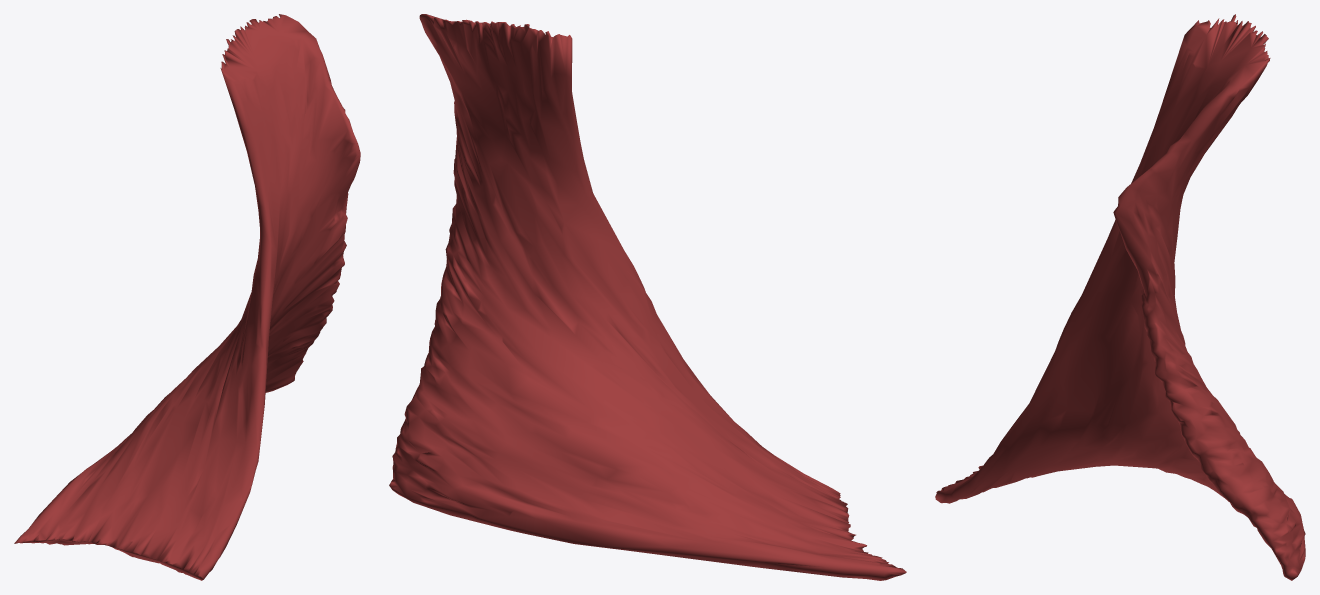
File: ascending-part-of-trapezius-muscle-r.glb
3 views of the same model, side by side, from view 1: azimuth 30°, elevation 25°; view 2: azimuth 150°, elevation 25°; view 3: azimuth 270°, elevation 25° (orthographic). The views are drawn at different scales.
Parts seen in each view (by area): view 1: Ascending part of trapezius muscle.r; view 2: Ascending part of trapezius muscle.r; view 3: Ascending part of trapezius muscle.r.
Boxes of the visible parts, x1,y1,x2,y2 form: Ascending part of trapezius muscle.r: [14, 14, 360, 580]; Ascending part of trapezius muscle.r: [389, 14, 906, 580]; Ascending part of trapezius muscle.r: [935, 14, 1305, 580].
Bounding box in the file's own units: 0.1351 × 0.1592 × 0.0921.
